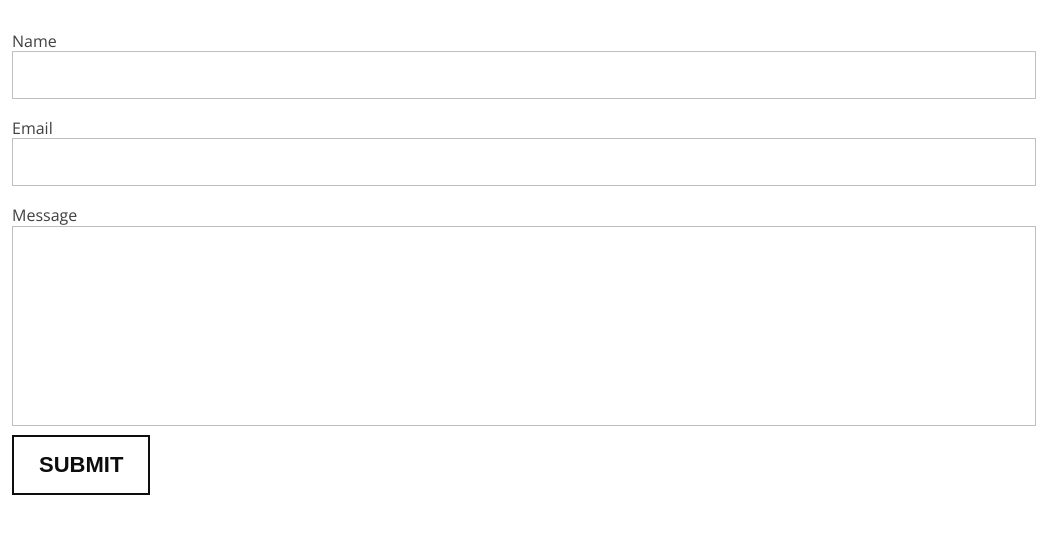
Test: <ContactForm/> › throws error when no fields are filled out
The width and height of the screenshot is (1048, 547).
Click the button "Submit" at (81, 465), box [12,435,150,495]
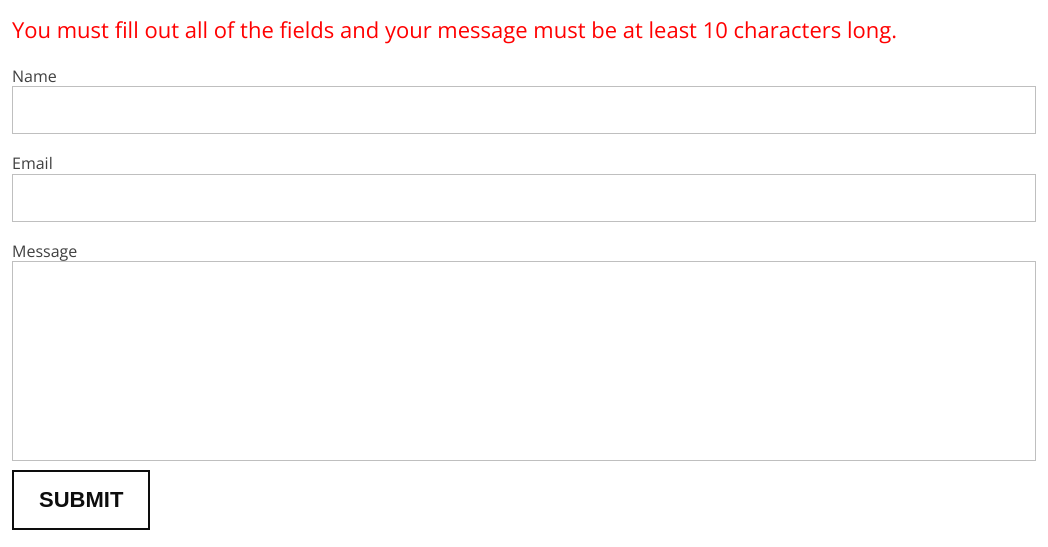
Check: the text "You must fill out" is shown, box [12,14,897,44]
